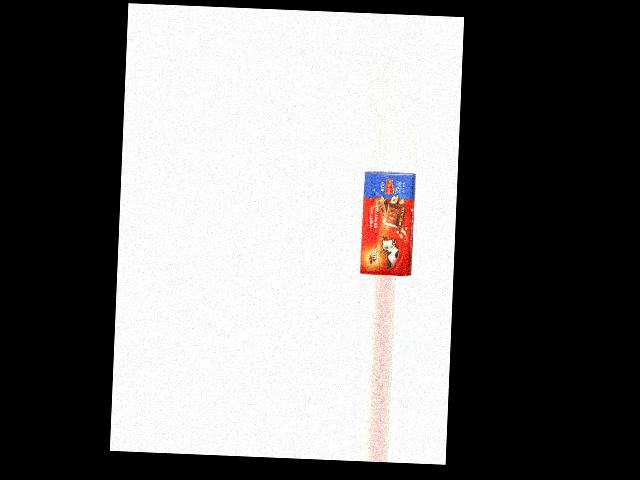chocolate: (360, 172, 420, 276)
